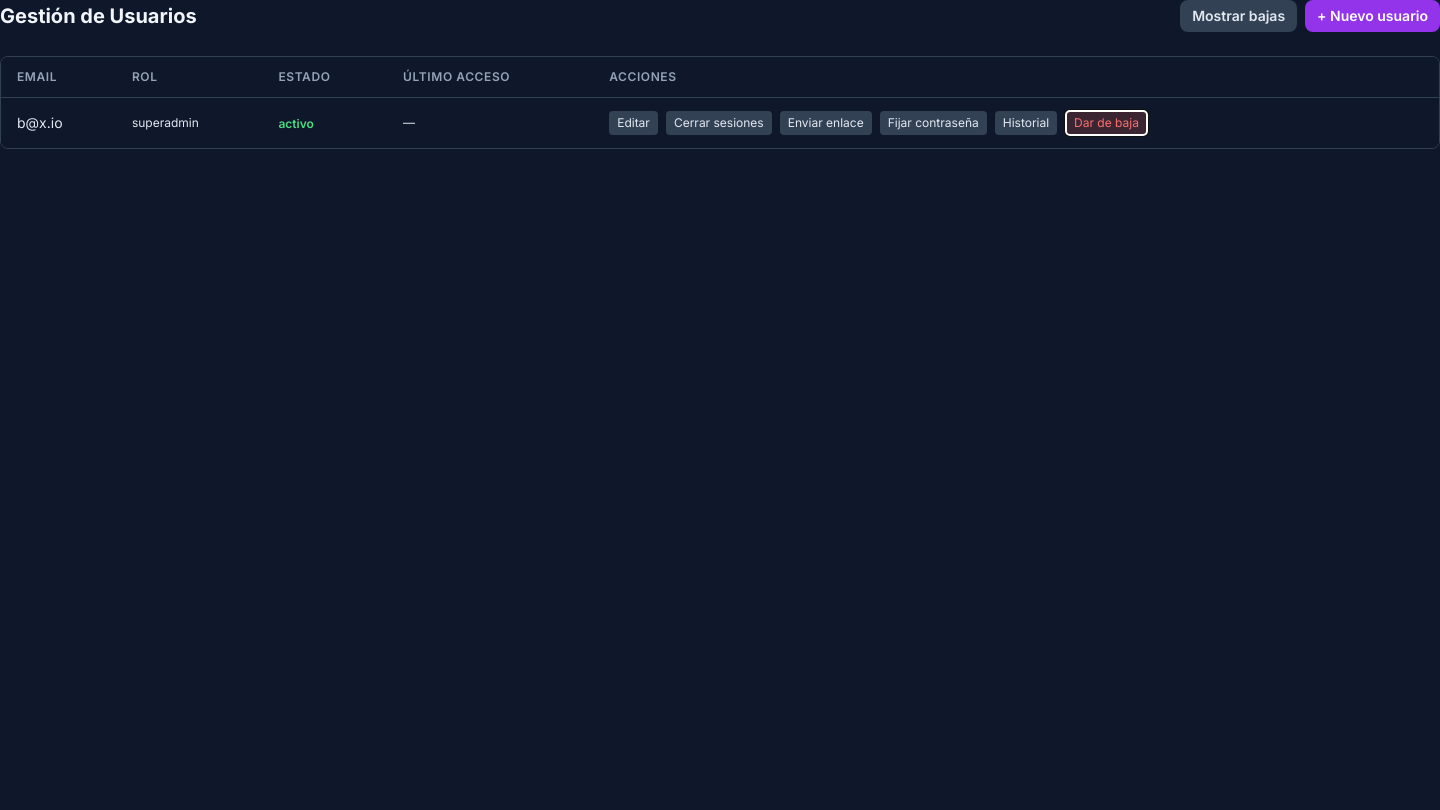
AdminUsers — baja: foco, error, exclusión y correo propio (fix round 1) › tras una baja exitosa el foco queda en "+ Nuevo usuario", no en body
The image size is (1440, 810).
Click the button "Dar de baja".
click(1107, 123)  # box [1065,110,1148,136]
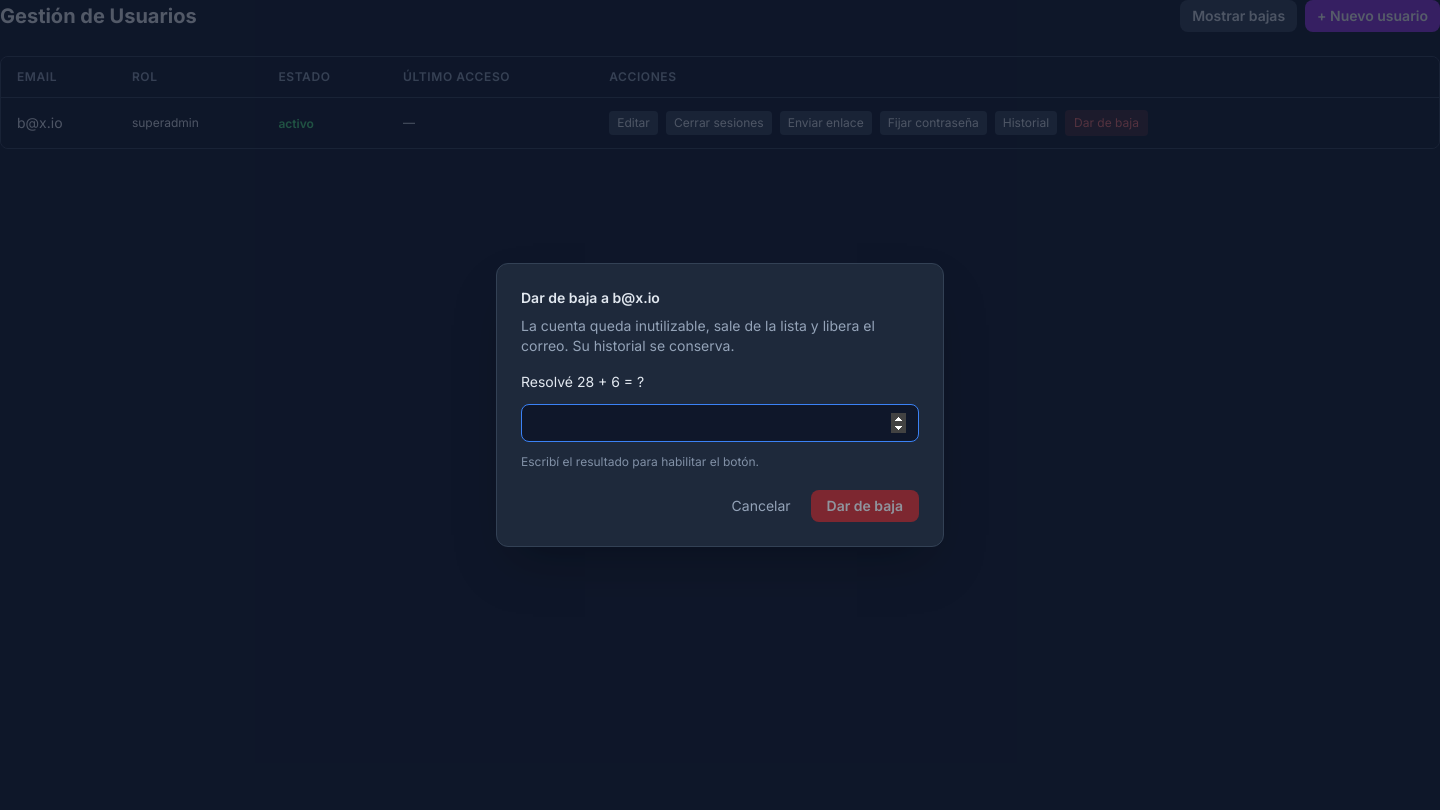
Type "34" into the number field.
click(720, 423); type("34")  # box [521,404,919,442]
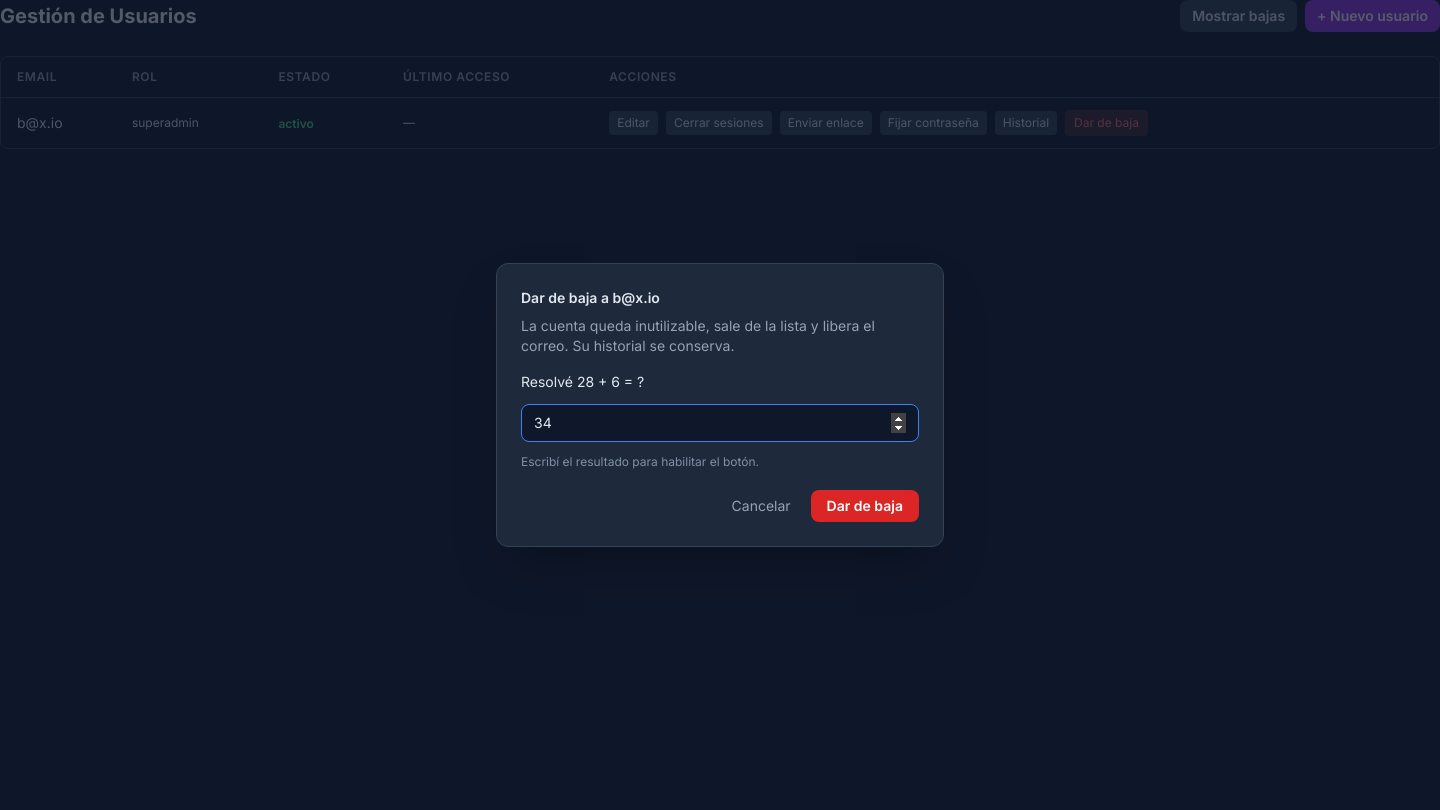
Click the button "Dar de baja".
click(865, 506)  # box [811,490,919,522]
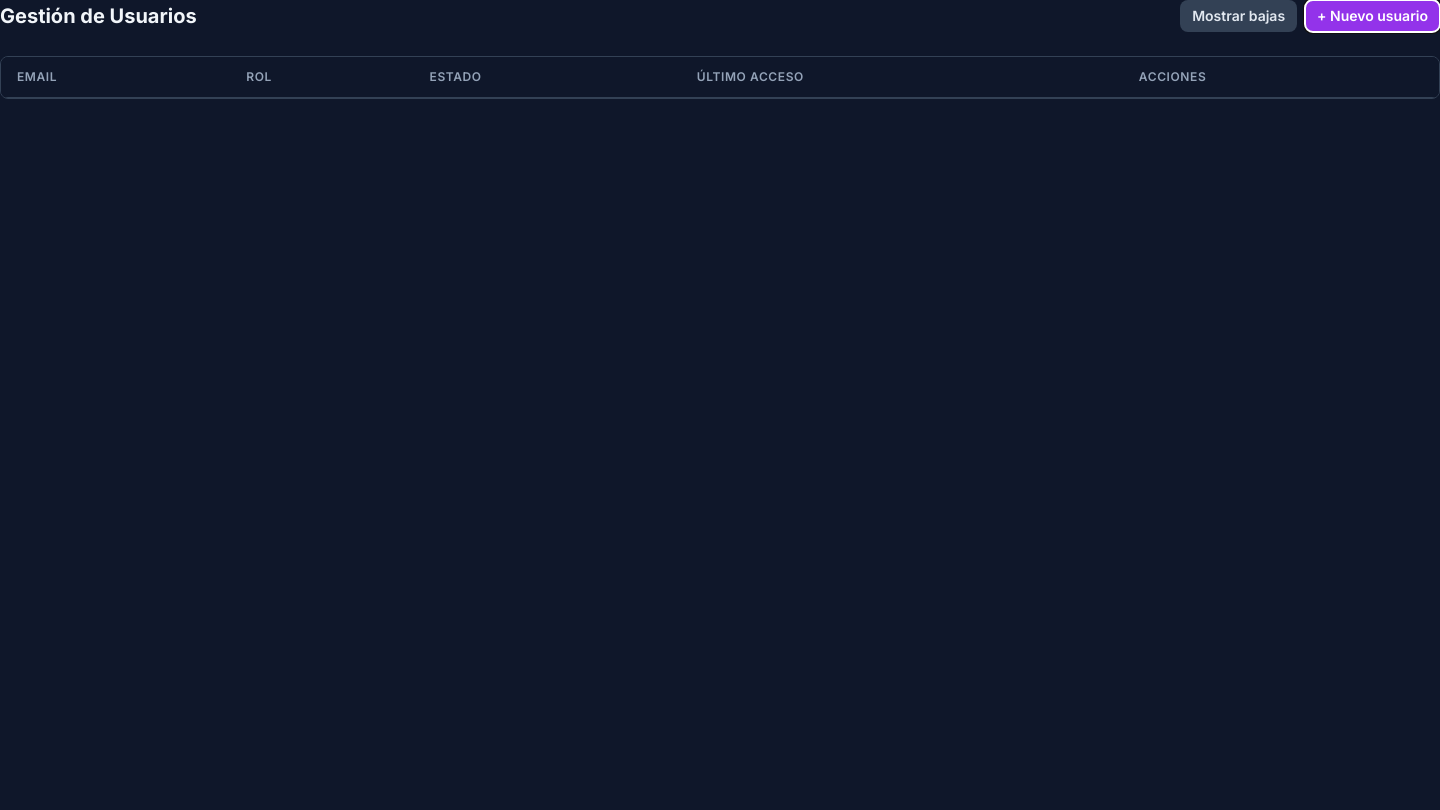
Result: the text "b@x.io" is gone
